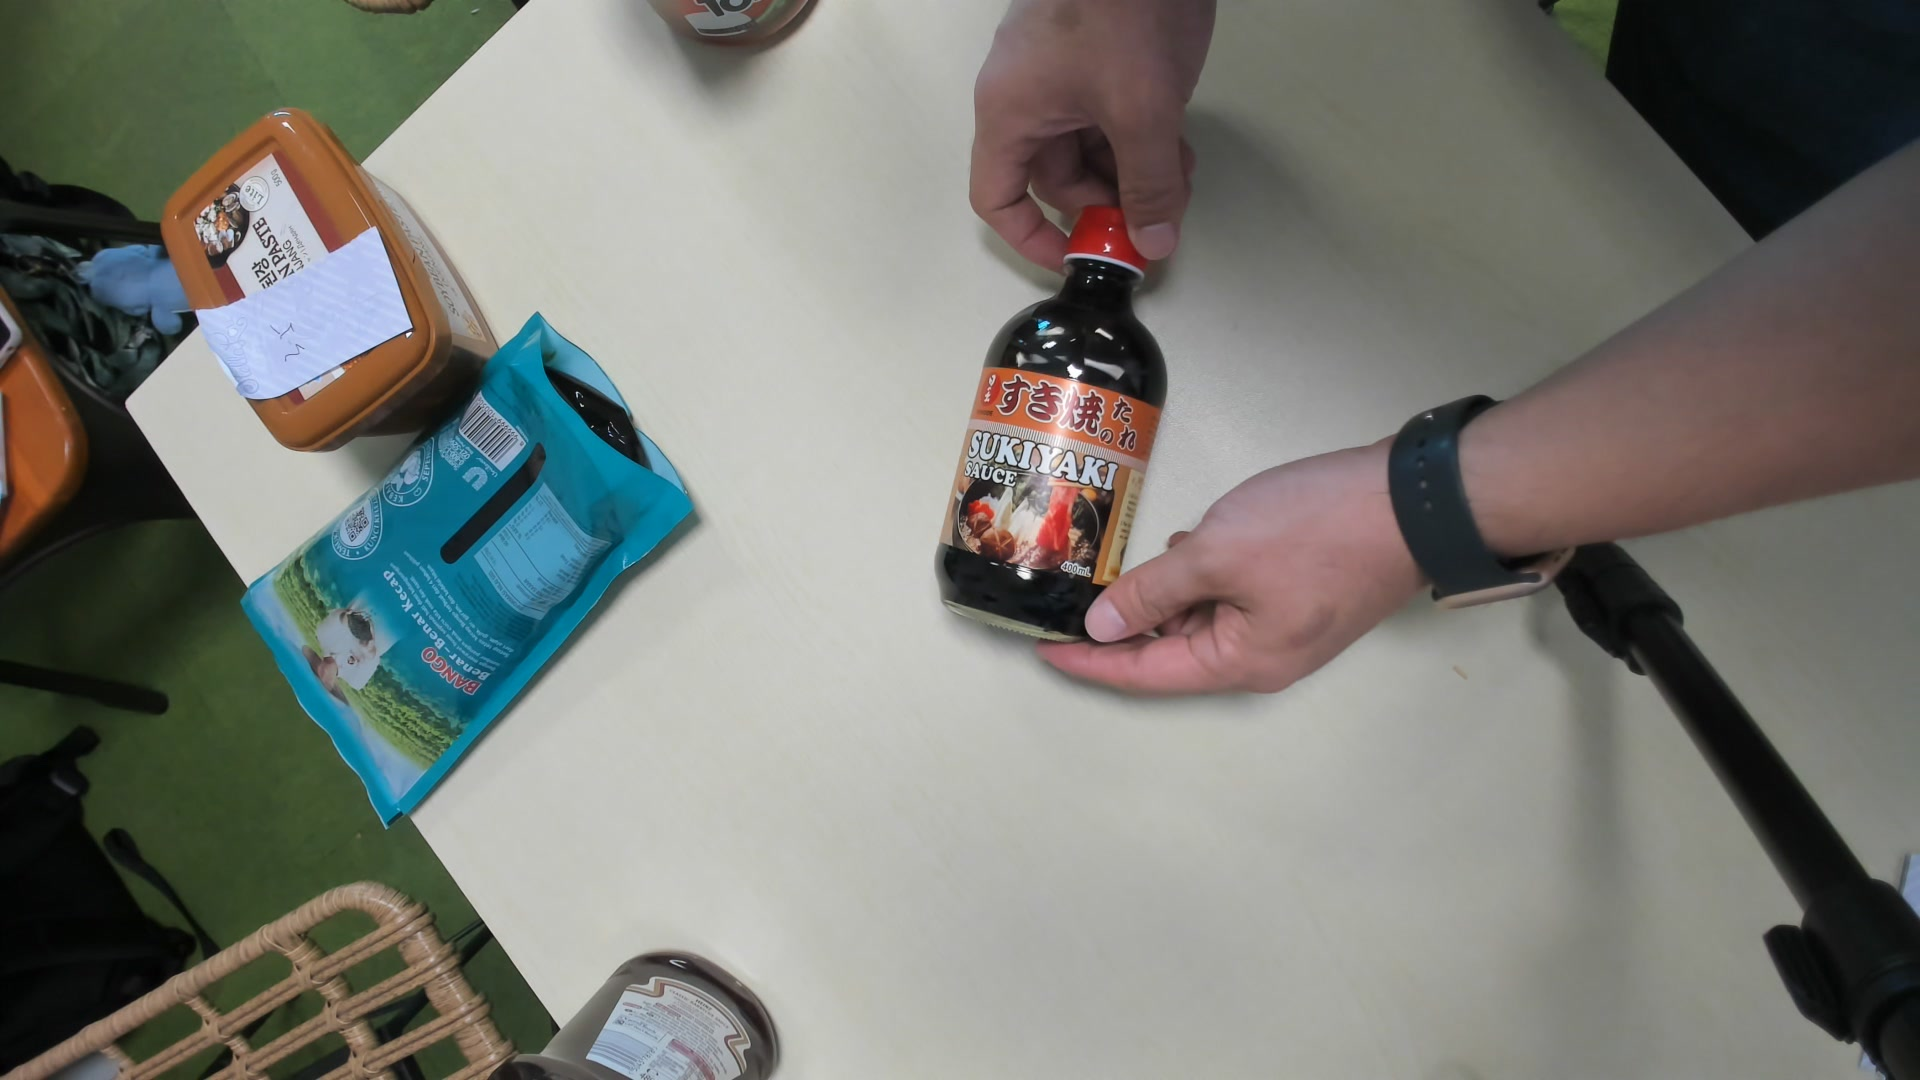OtherSauceDressing_400-499g_NonHalal_NonHealthy: (924, 202, 1174, 649)
